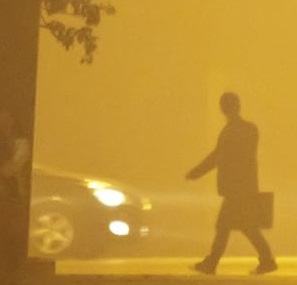person: (183, 89, 283, 278)
